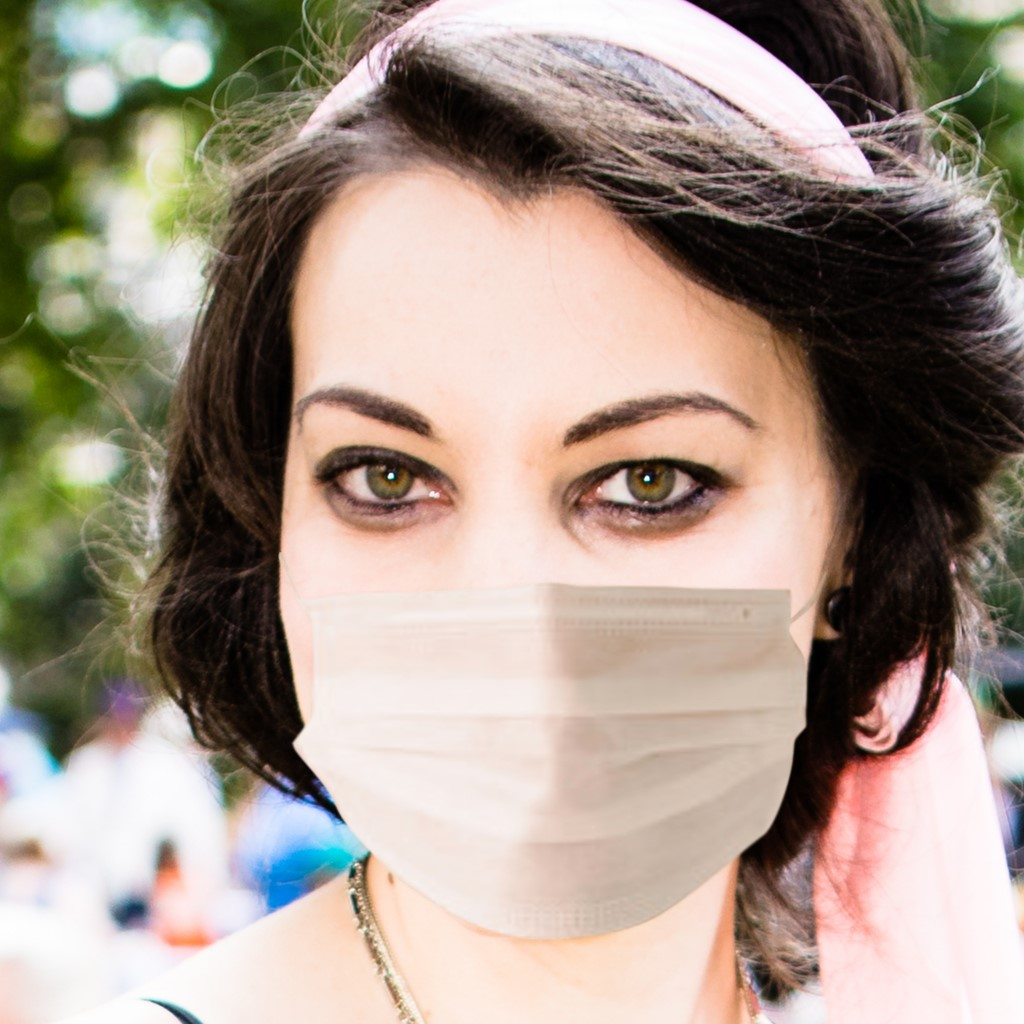con_mascara: (275, 200, 843, 926)
